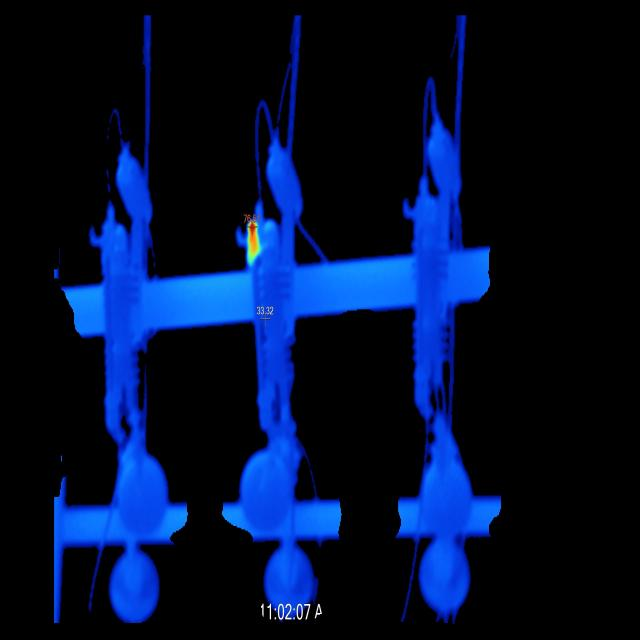Loose Joint F: (245, 214, 260, 265)
